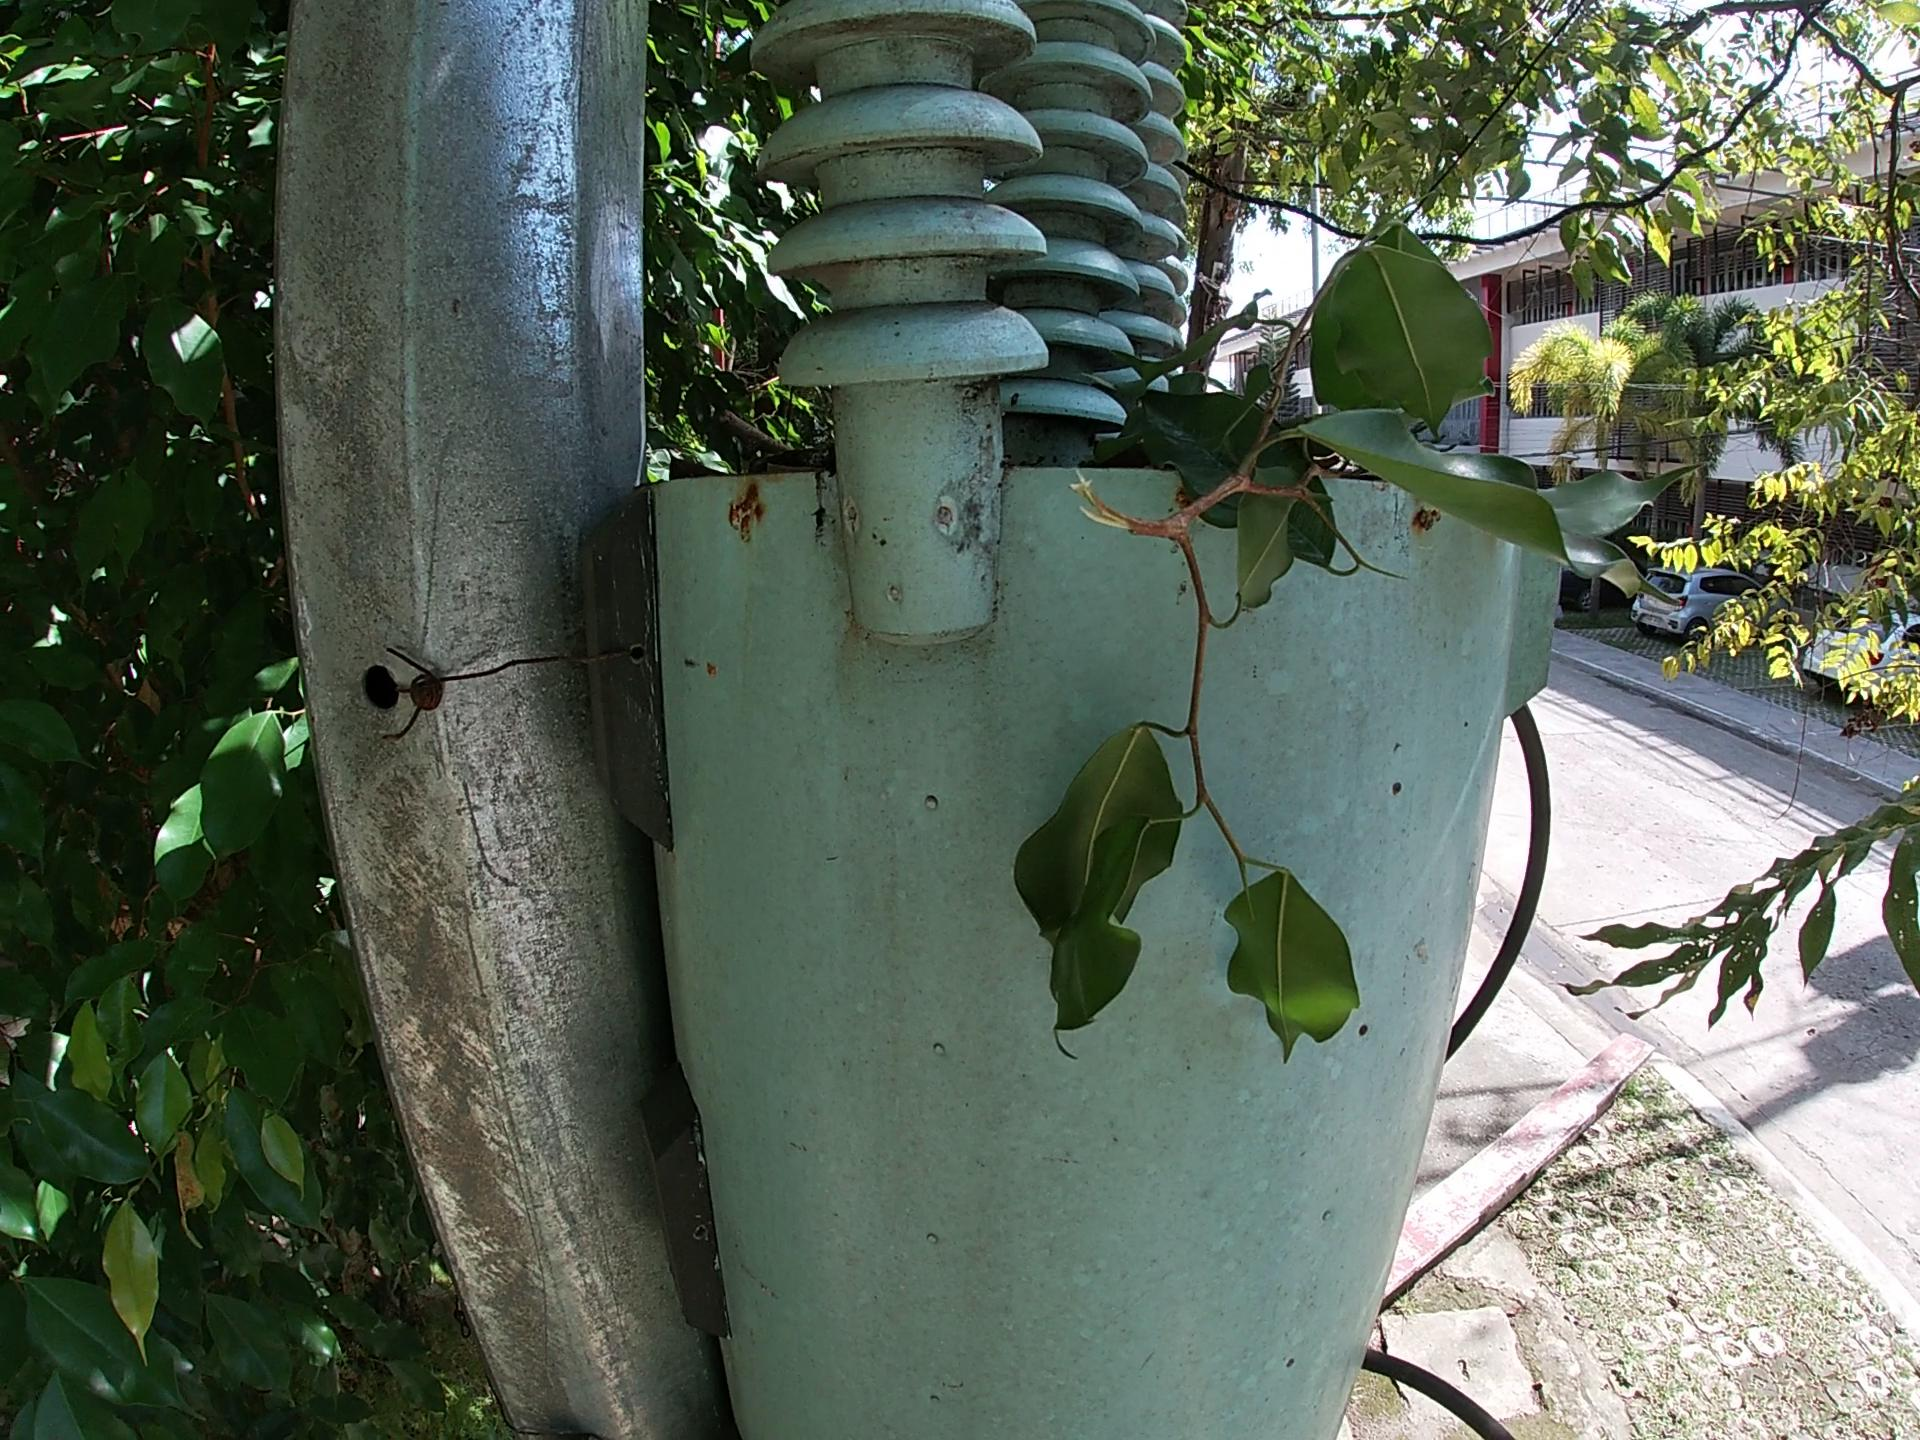branch with leaves: (1037, 256, 1720, 1142)
leaf: (661, 442, 732, 483)
tree branch: (705, 416, 816, 452)
